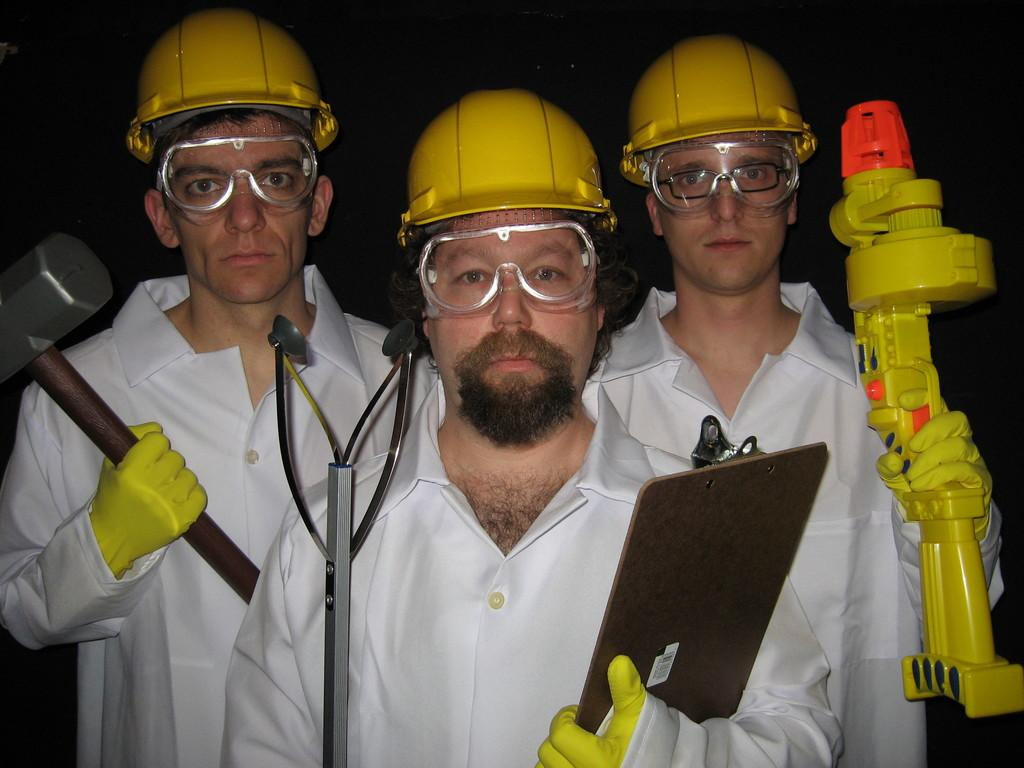helmet: (399, 88, 612, 429), (125, 8, 340, 298), (619, 34, 819, 291)
